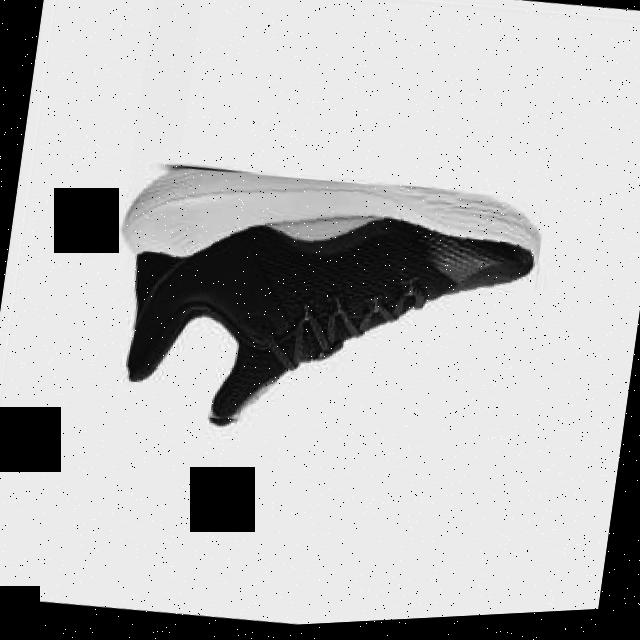shoe: (94, 148, 547, 474)
